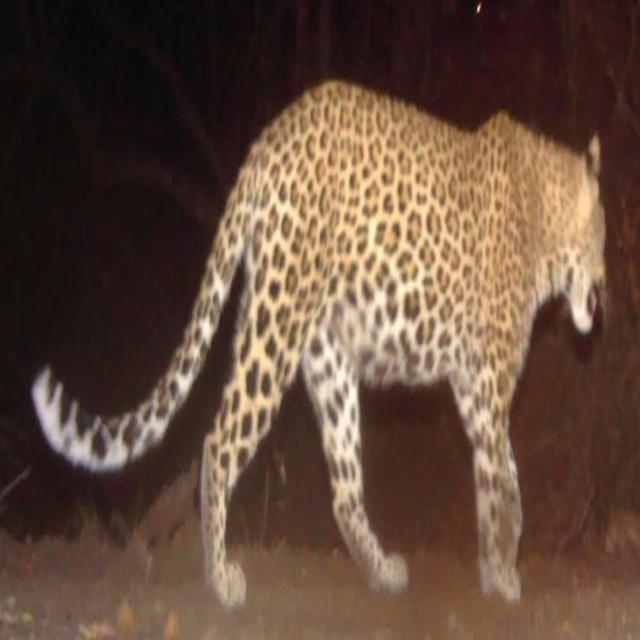Leopard: (56, 81, 606, 634)
